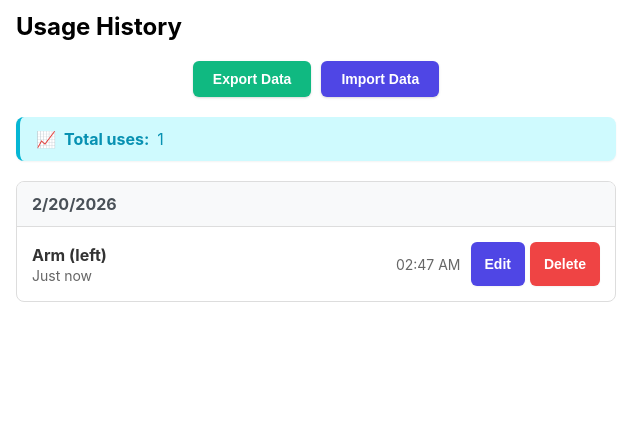
Test: UsageHistory - inline editing › saves edit and updates the record
Click the button "Edit": x=498, y=264 [470,242,525,286]
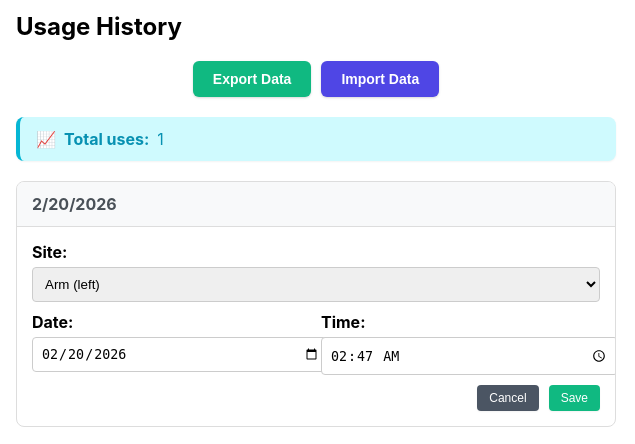
// Change site
Select "Leg (right)" in the dropdown: x=316, y=284 [32,267,600,302]
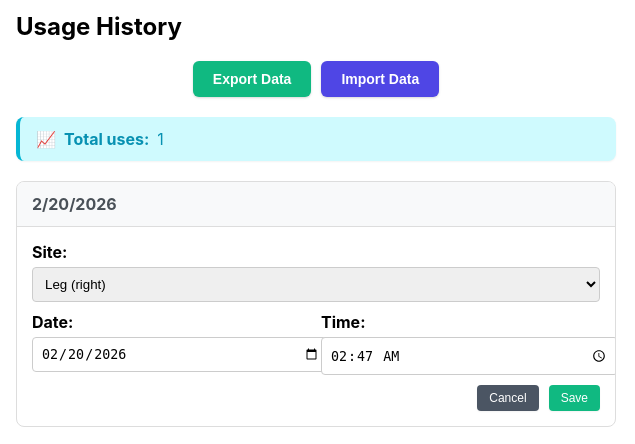
In the date field: x=180, y=355 [32,337,329,372], type "2025-06-15"
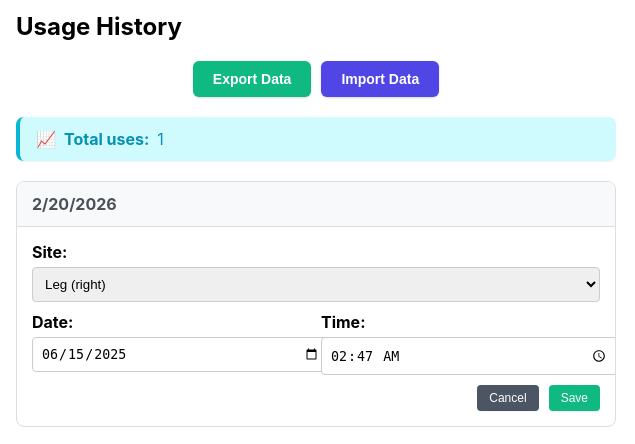
// Change time
Replace the text in the time field with "14:30": x=470, y=356 [321,337,618,375]
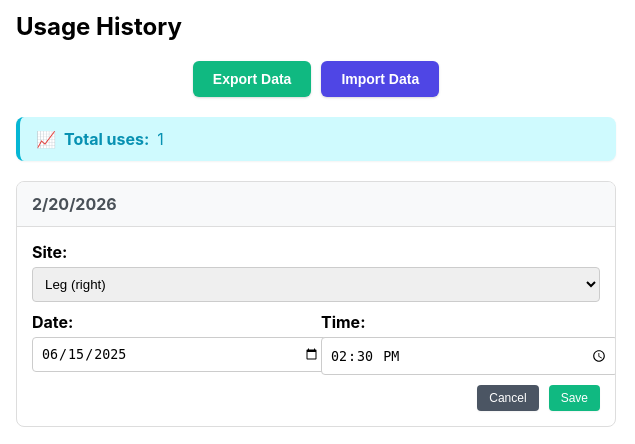
Click the button "Save": x=574, y=398 [549,385,600,411]
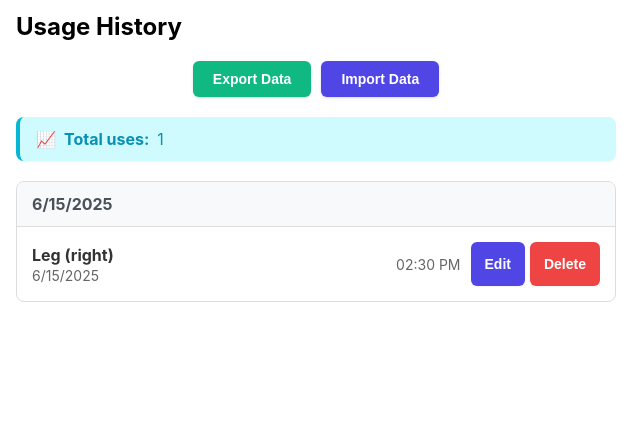
Now the button "Save" is gone
